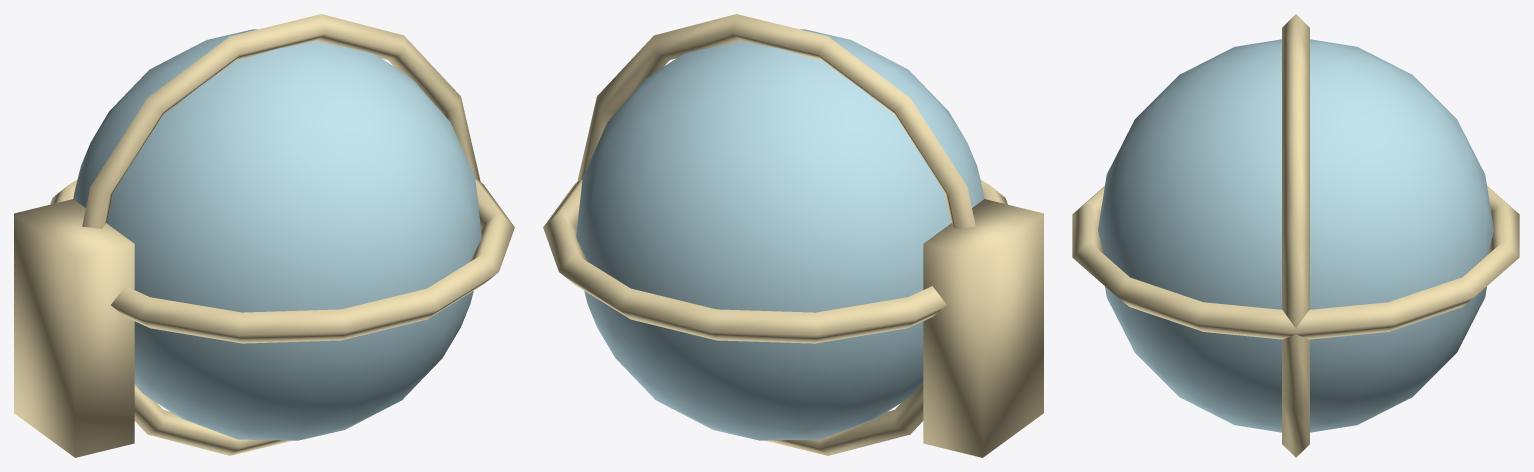
File: giftborne-collectible-orb-v1.glb
The picture shows the model from 3 angles, left to right: view 1: azimuth 30°, elevation 25°; view 2: azimuth 150°, elevation 25°; view 3: azimuth 270°, elevation 25°; orthographic projection. The views are drawn at different scales.
Parts seen in each view (by area): view 1: GiftborneCollectibleOrb; view 2: GiftborneCollectibleOrb; view 3: GiftborneCollectibleOrb.
Boxes of the visible parts, x1,y1,x2,y2 form: GiftborneCollectibleOrb: (14,14,514,457); GiftborneCollectibleOrb: (543,14,1043,457); GiftborneCollectibleOrb: (1072,14,1519,457).
Bounding box in the file's own units: 0.207 × 0.1891 × 0.1911.
